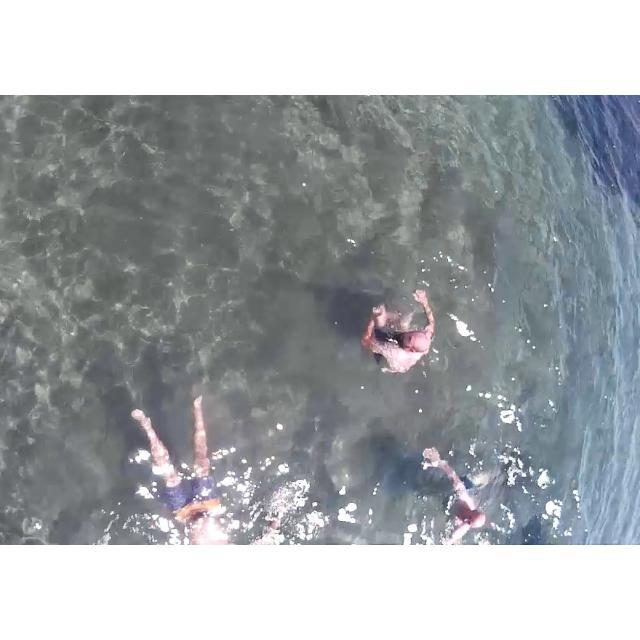human: (355, 281, 440, 386)
